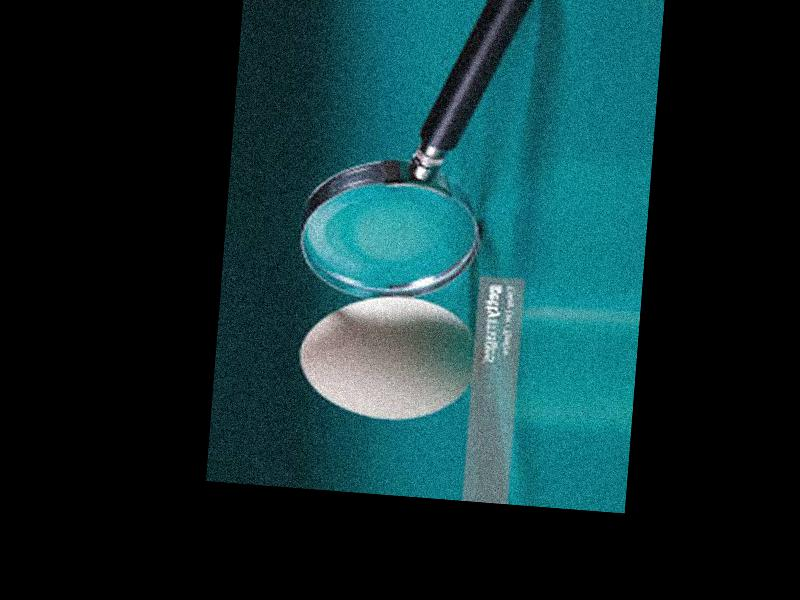Eggs: (294, 288, 480, 426)
